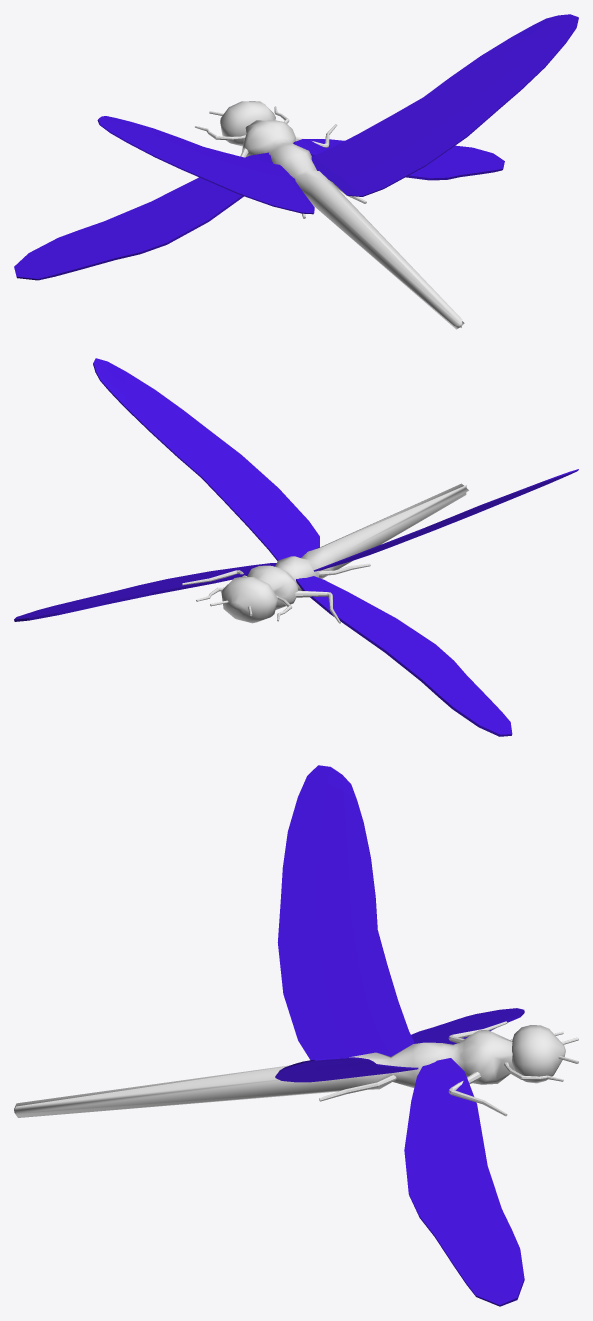
File: dragonfly_animation.fbx
3 views of the same model, one above another, from view 1: azimuth 30°, elevation 25°; view 2: azimuth 150°, elevation 25°; view 3: azimuth 270°, elevation 25° (orthographic). The views are drawn at different scales.
Parts seen in each view (by area): view 1: rear right, front left, body.001, rear left, front right; view 2: rear right, body.001, front left, front right, rear left; view 3: rear left, front right, body.001, rear right, front left.
Part boxes in pixels (x1,y1,x2,y2): rear right: (311,14,578,196); front left: (14,152,273,280); body.001: (195,101,464,329); rear left: (97,116,314,214); front right: (293,139,504,180); rear right: (93,358,319,560); body.001: (182,483,468,623); front left: (296,576,512,736); front right: (14,563,276,621); rear left: (313,469,578,571); rear left: (277,765,414,1060); front right: (404,1058,524,1306); body.001: (14,1021,578,1117); rear right: (275,1057,418,1082); front left: (411,1008,524,1044).
Bounding box in the file's own units: 13.3 × 5.47 × 10.91.
